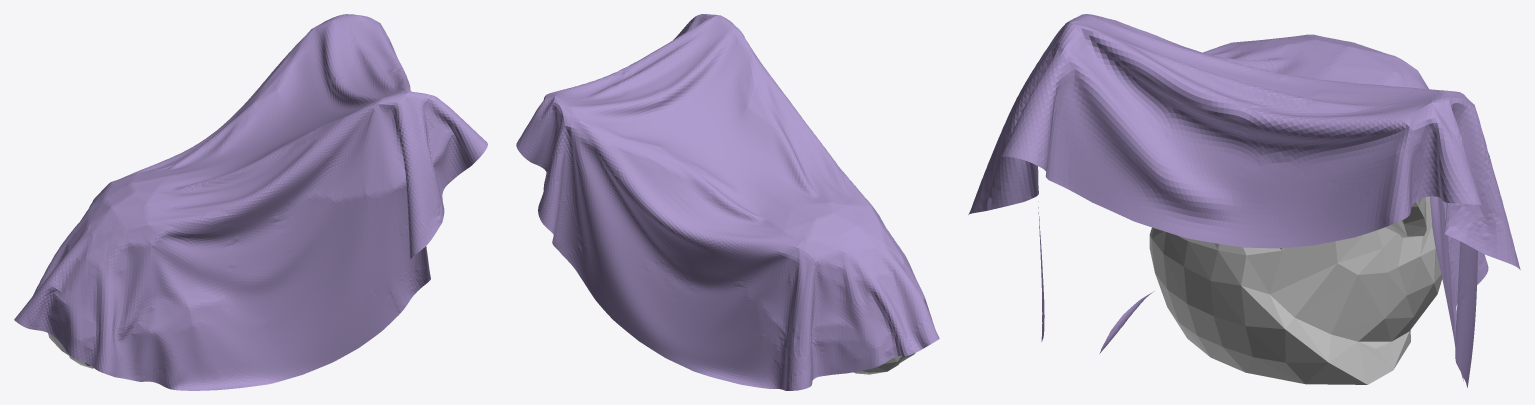
Rendered from level_3.glb.
The picture shows the model from 3 angles, left to right: view 1: azimuth 30°, elevation 25°; view 2: azimuth 150°, elevation 25°; view 3: azimuth 270°, elevation 25°; orthographic projection. The views are drawn at different scales.
Visible parts, largest first — view 1: world; view 2: world, object.obj; view 3: world, object.obj.
Boxes of the visible parts, x1,y1,x2,y2 form: world: [14, 14, 487, 390]; world: [516, 14, 939, 390]; object.obj: [853, 353, 915, 374]; world: [968, 14, 1520, 387]; object.obj: [1149, 196, 1442, 384].
Size of the model in its own units: 0.4685 by 0.292 by 0.3415.
